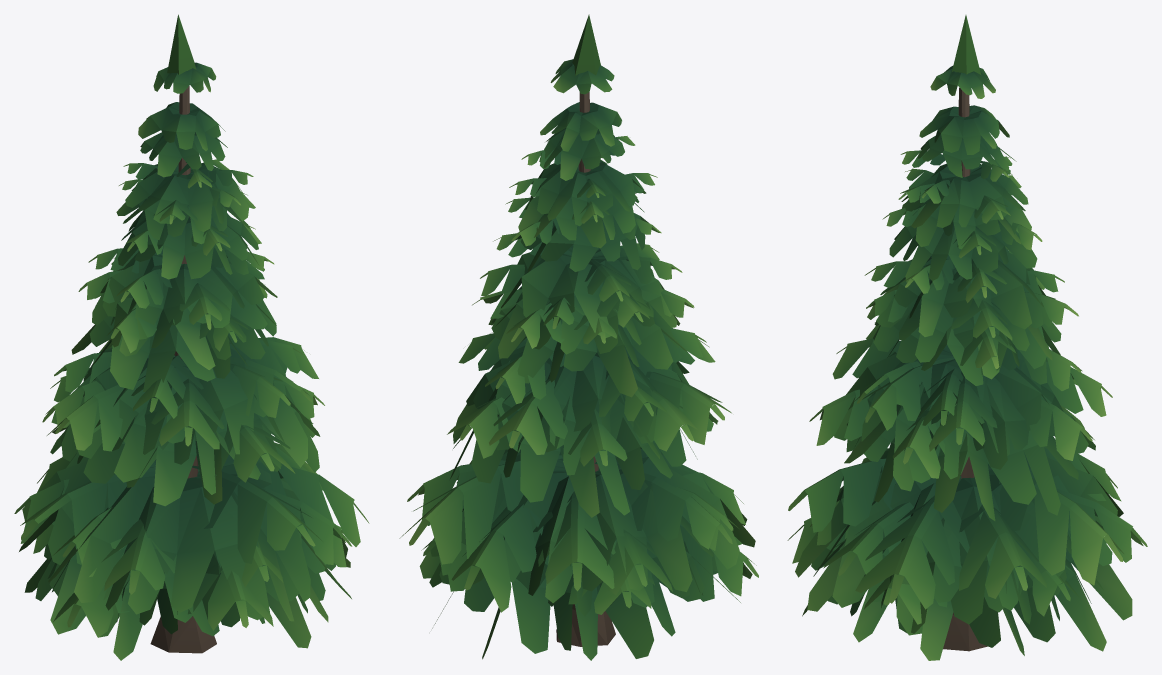
The model's file is spruce_L_normal_std_layered_s39.glb.
3 views of the same model, side by side, from view 1: azimuth 30°, elevation 25°; view 2: azimuth 150°, elevation 25°; view 3: azimuth 270°, elevation 25° (orthographic).
Parts seen in each view (by area): view 1: Tree; view 2: Tree; view 3: Tree.
Part boxes in pixels (bbox=[...]): Tree: bbox=[14, 14, 369, 660]; Tree: bbox=[399, 14, 758, 660]; Tree: bbox=[787, 15, 1147, 660].
Size of what is drawn, in the model's own units: 4.11 by 7.97 by 4.19.
